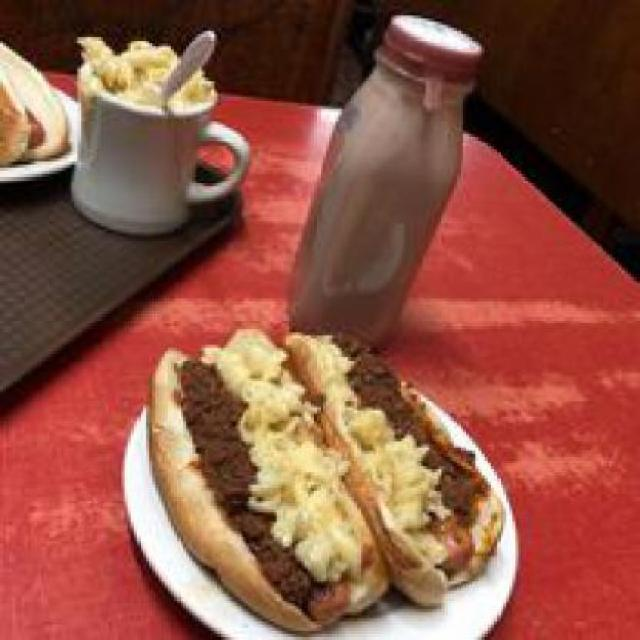hot dog: (285, 568, 367, 624), (429, 512, 476, 570)
macaroni and cheese: (230, 320, 422, 558), (74, 22, 218, 108)
